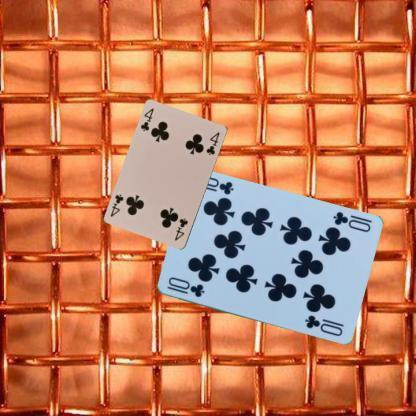10c: (329, 209, 372, 234), (164, 274, 206, 299)
4c: (172, 216, 190, 243), (138, 106, 155, 133)
